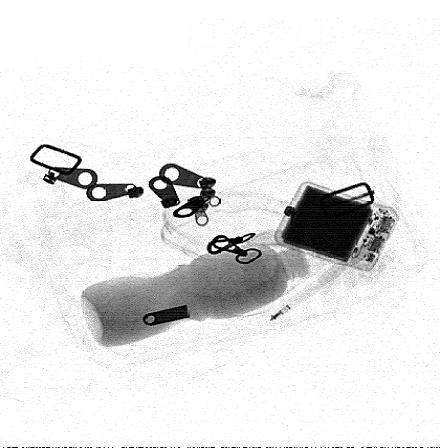Powerbank: (273, 182, 401, 272)
